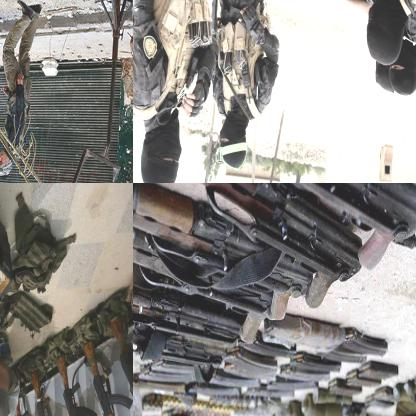rifle: (144, 183, 372, 309), (228, 183, 415, 272), (133, 270, 272, 350), (85, 343, 132, 415), (56, 356, 99, 415), (109, 317, 132, 415), (31, 374, 69, 415)
